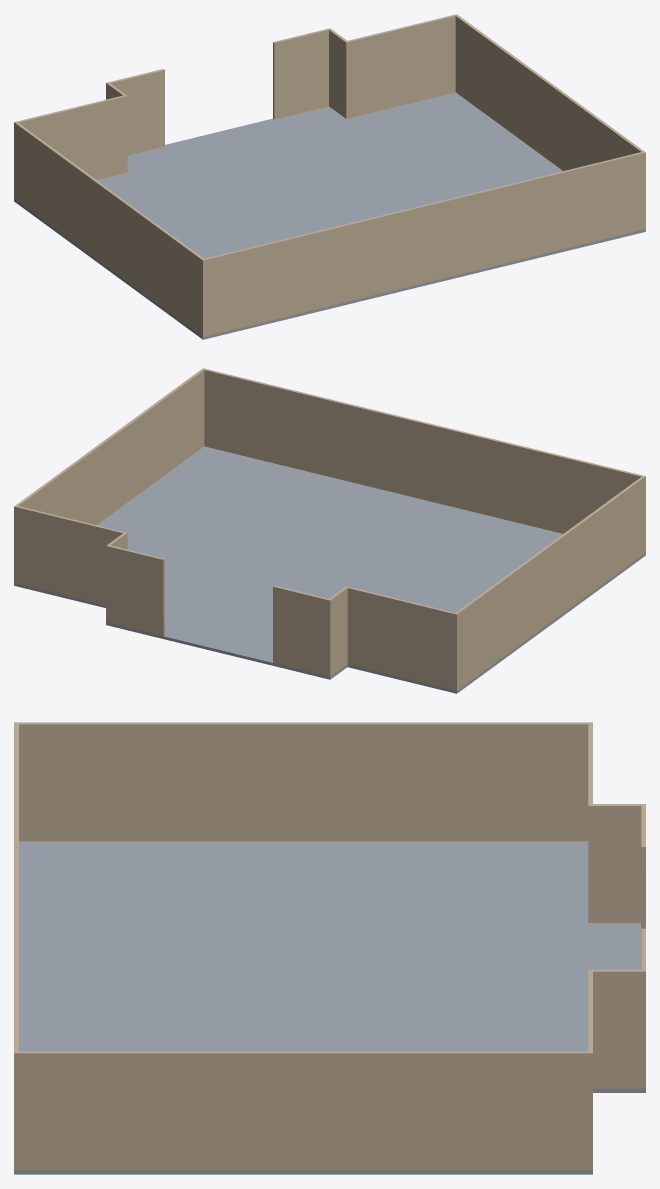
The model's file is backrooms.glb.
The picture shows the model from 3 angles, top to bottom: view 1: azimuth 30°, elevation 25°; view 2: azimuth 150°, elevation 25°; view 3: azimuth 270°, elevation 25°; orthographic projection. The views are drawn at different scales.
Parts seen in each view (by area): view 1: Plane; view 2: Plane; view 3: Plane.
Part boxes in pixels (left/top/right/bottom): Plane: left=14, top=14, right=645, bottom=339; Plane: left=14, top=368, right=645, bottom=693; Plane: left=14, top=722, right=645, bottom=1174.
Size of the model in its own units: 163 by 27.83 by 131.
